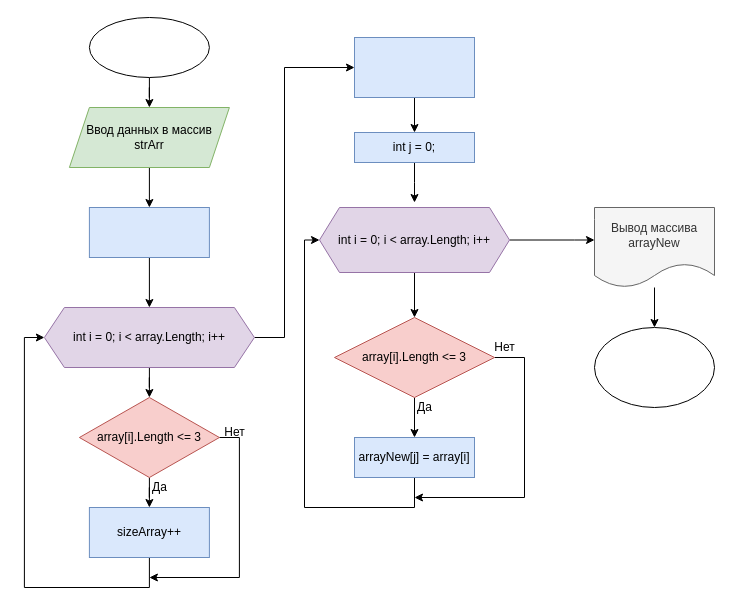
The diagram is 733 pixels wide and 613 high, and some of its shapes have lost their labels. The centre of each missing label's shape, as x and y in pixels:
"sizeArray = 0" belongs at point (148, 232).
"Конец" belongs at point (654, 367).
"Начало" belongs at point (148, 47).
"Создание массива arrayNew" belongs at point (414, 67).
